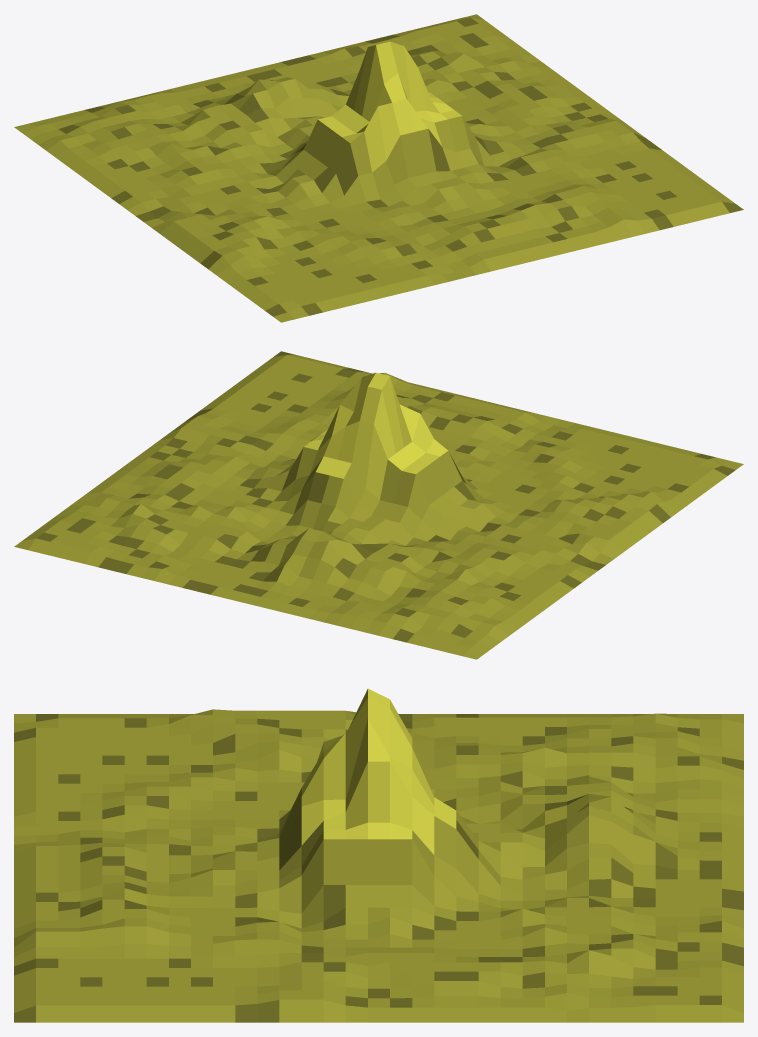
File: Terrain_4_Yellow.fbx
3 views of the same model, one above another, from view 1: azimuth 30°, elevation 25°; view 2: azimuth 150°, elevation 25°; view 3: azimuth 270°, elevation 25° (orthographic). The views are drawn at different scales.
Parts seen in each view (by area): view 1: Terrain_4_Yellow; view 2: Terrain_4_Yellow; view 3: Terrain_4_Yellow.
Boxes of the visible parts, bbox=[...] form: Terrain_4_Yellow: bbox=[14, 14, 743, 322]; Terrain_4_Yellow: bbox=[14, 351, 743, 659]; Terrain_4_Yellow: bbox=[14, 688, 743, 1022].
Size of the model in its own units: 10000 by 2647 by 10000.
